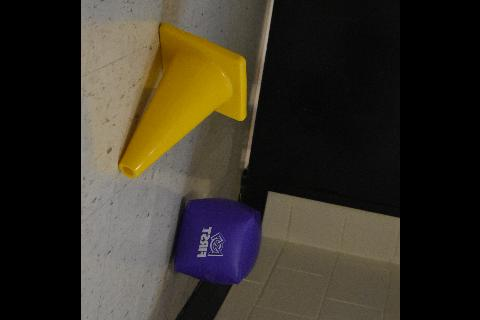cone: (116, 22, 246, 178)
cube: (172, 197, 262, 285)
